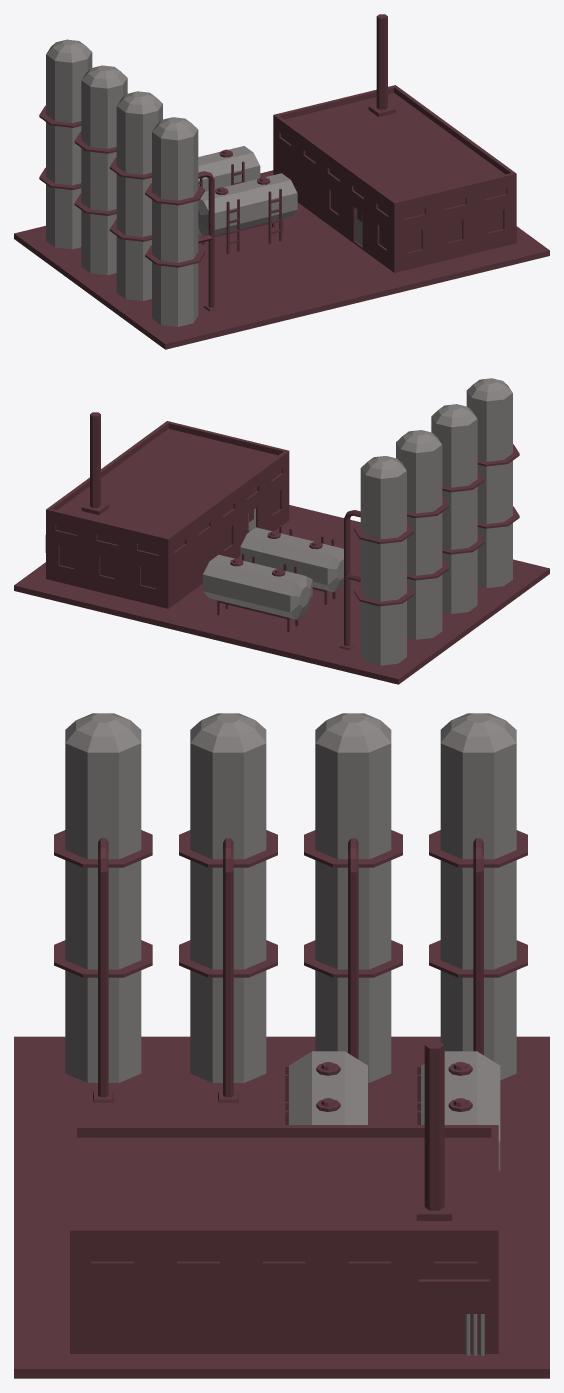
Rendered from industry-refinery.fbx.
3 renders of one model, top to bottom at view 1: azimuth 30°, elevation 25°; view 2: azimuth 150°, elevation 25°; view 3: azimuth 270°, elevation 25°, orthographic. The views are drawn at different scales.
Parts seen in each view (by area): view 1: industry-refinery; view 2: industry-refinery; view 3: industry-refinery.
Part boxes in pixels (x1,y1,x2,y2): industry-refinery: (14, 14, 549, 349); industry-refinery: (14, 378, 549, 684); industry-refinery: (14, 713, 549, 1378).
Size of the model in its own units: 22 by 11.07 by 15.
